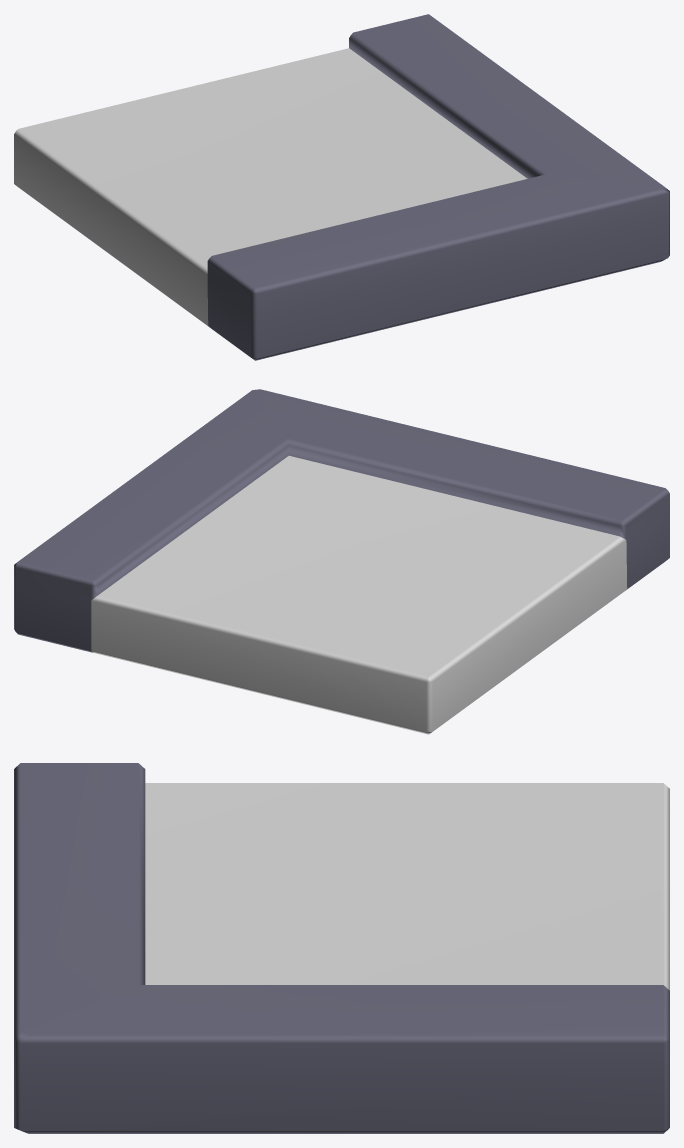
Rendered from mod_sc_tdm_roma_ground_003.fbx.
3 renders of one model, top to bottom at view 1: azimuth 30°, elevation 25°; view 2: azimuth 150°, elevation 25°; view 3: azimuth 270°, elevation 25°, orthographic. The views are drawn at different scales.
Visible parts, largest first — view 1: mod_sc_roma_001_floor_013; view 2: mod_sc_roma_001_floor_013; view 3: mod_sc_roma_001_floor_013.
Boxes of the visible parts, x1,y1,x2,y2 form: mod_sc_roma_001_floor_013: (14, 14, 669, 360); mod_sc_roma_001_floor_013: (14, 389, 669, 734); mod_sc_roma_001_floor_013: (14, 763, 669, 1133).
Size of what is drawn, in the model's own units: 300 by 50 by 300.
Materials: 1 (1 with a texture image).
